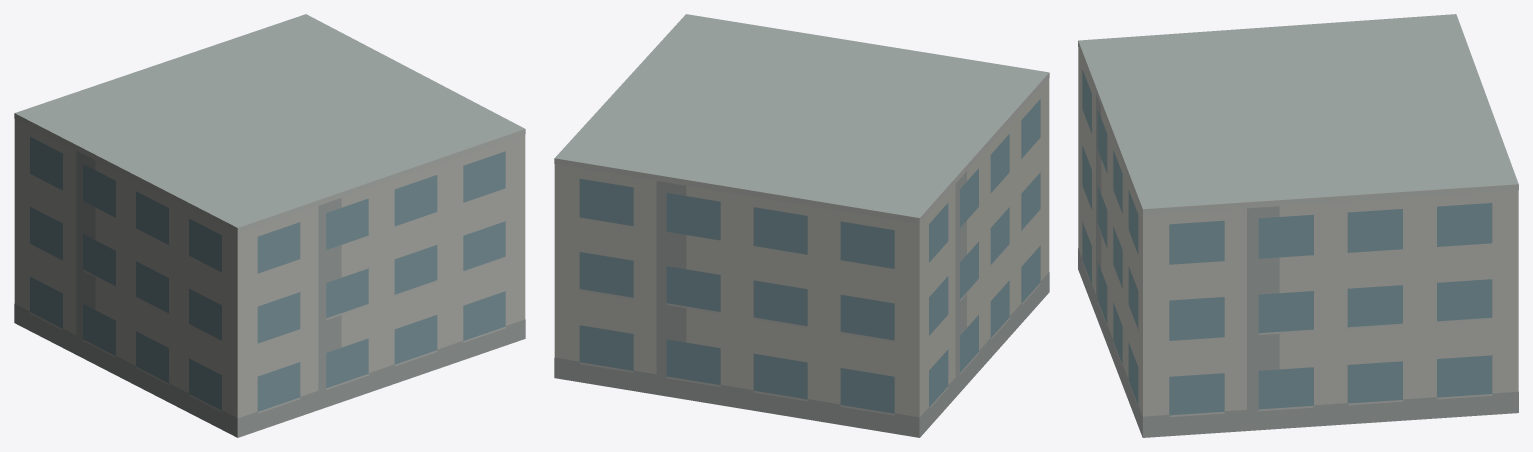
The model's file is survey-upis-32803497.glb.
3 renders of one model, left to right at view 1: azimuth 30°, elevation 25°; view 2: azimuth 150°, elevation 25°; view 3: azimuth 270°, elevation 25°, orthographic. The views are drawn at different scales.
Parts seen in each view (by area): view 1: survey-upis-32803497.tmp; view 2: survey-upis-32803497.tmp; view 3: survey-upis-32803497.tmp.
Boxes of the visible parts, x1,y1,x2,y2 form: survey-upis-32803497.tmp: (14,14,525,437); survey-upis-32803497.tmp: (554,14,1049,437); survey-upis-32803497.tmp: (1078,14,1518,437).
Size of the model in its own units: 16.76 by 9.15 by 15.99.
